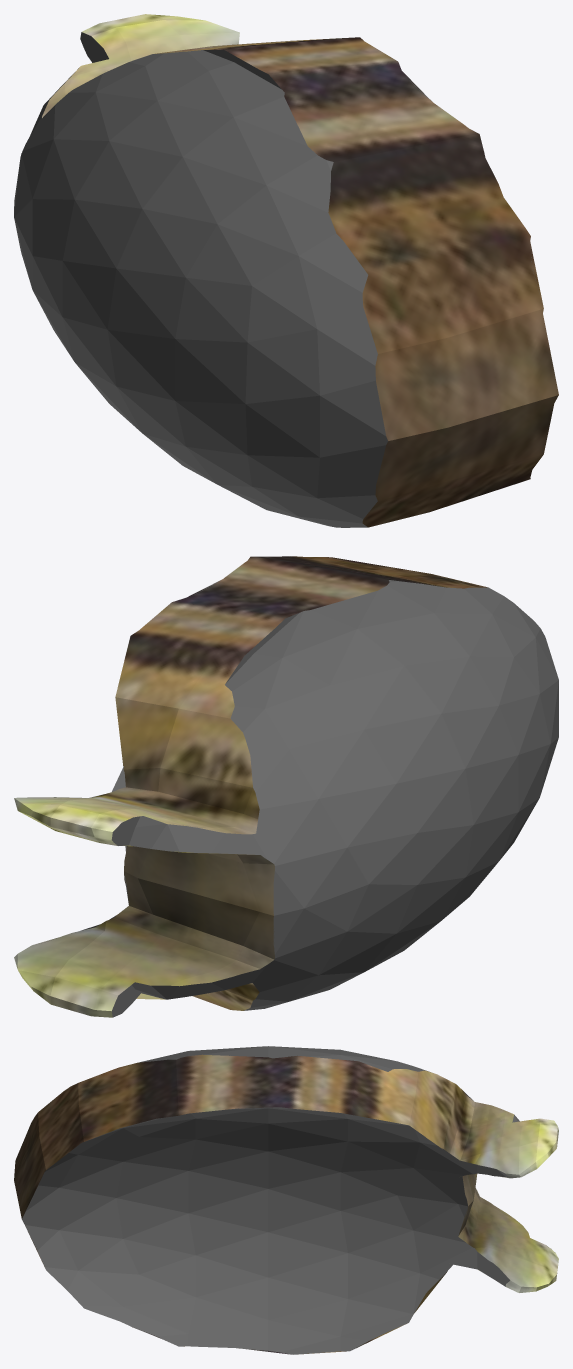
Rendered from link_6_composite.obj.
The picture shows the model from 3 angles, top to bottom: view 1: azimuth 30°, elevation 25°; view 2: azimuth 150°, elevation 25°; view 3: azimuth 270°, elevation 25°; orthographic projection. The views are drawn at different scales.
Bounding box in the file's own units: 0.00175 × 0.00206 × 0.00381.
1 material, 1 textured.
